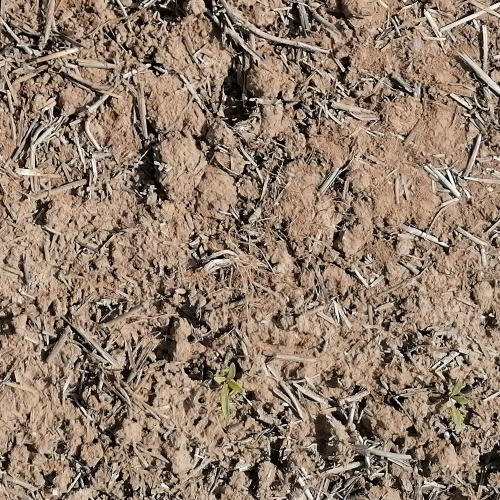beet: (214, 361, 244, 421), (444, 378, 474, 427)
